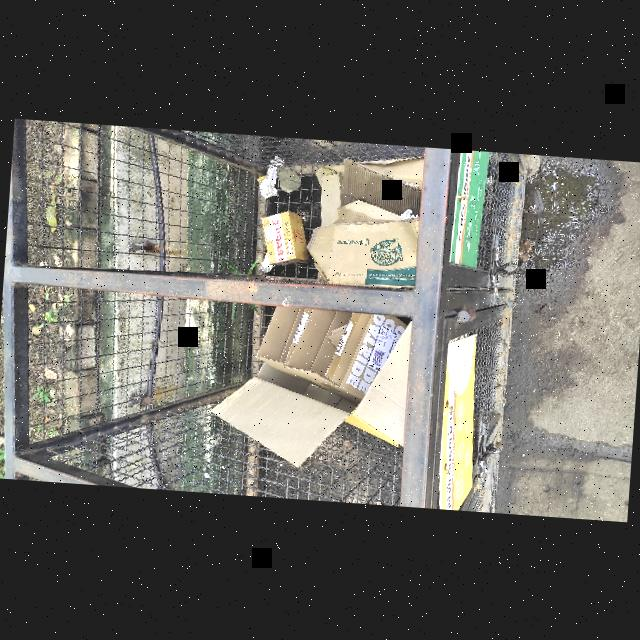cardboard_box: (212, 303, 412, 482), (304, 149, 420, 290), (283, 306, 400, 402), (254, 301, 308, 380), (252, 201, 303, 273)
scrap_paper: (256, 153, 284, 201), (258, 249, 276, 271)
